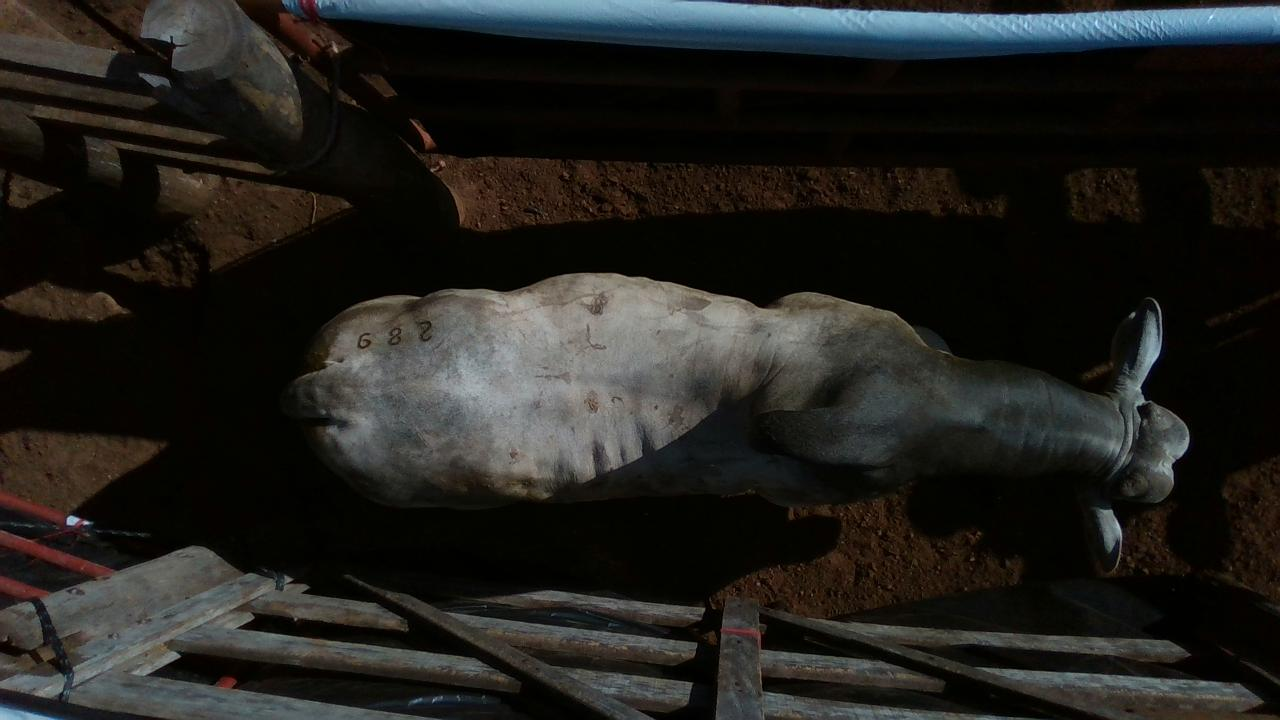cattle: (280, 269, 1191, 573)
